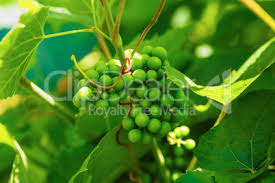grapes: (78, 52, 192, 146)
